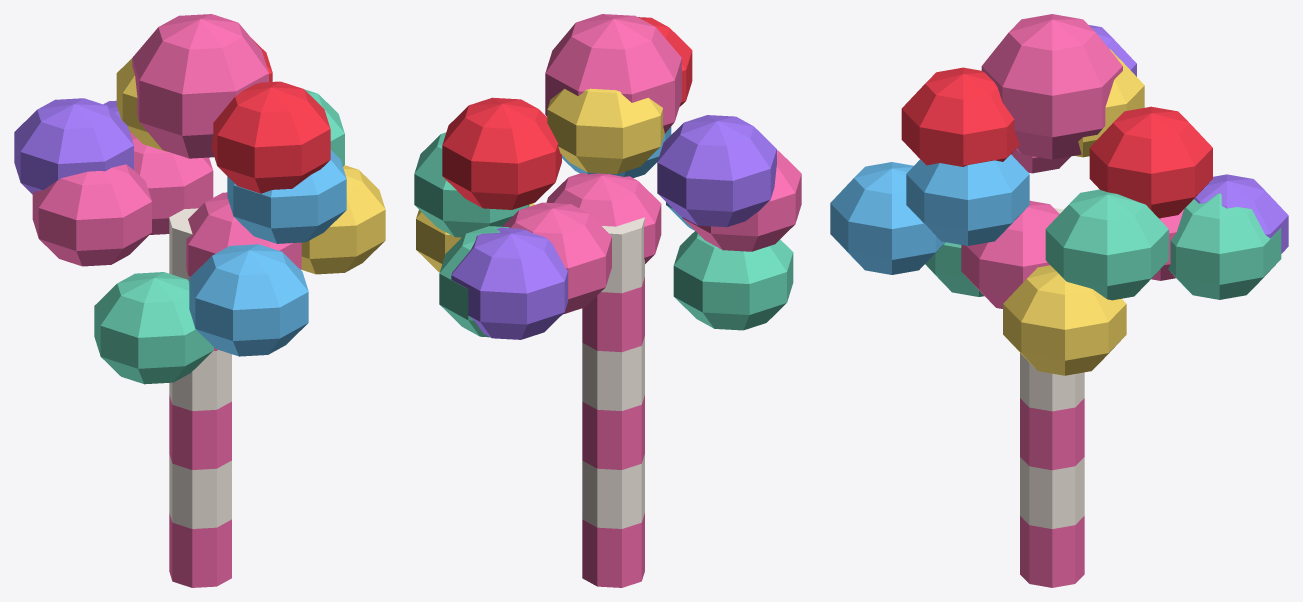
The model's file is GumdropTree.fbx.
3 renders of one model, left to right at view 1: azimuth 30°, elevation 25°; view 2: azimuth 150°, elevation 25°; view 3: azimuth 270°, elevation 25°, orthographic.
Parts seen in each view (by area): view 1: GumdropTree; view 2: GumdropTree; view 3: GumdropTree.
Boxes of the visible parts, x1=… form: GumdropTree: x1=14, y1=14, x2=385, y2=587; GumdropTree: x1=414, y1=14, x2=801, y2=587; GumdropTree: x1=830, y1=14, x2=1288, y2=587.
Bounding box in the file's own units: 444 × 660 × 494.
Materials: 1 (1 with a texture image).
